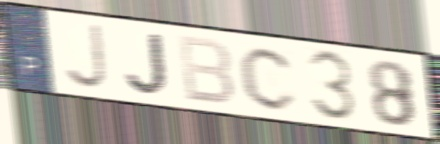3: (304, 47, 358, 124)
8: (366, 58, 419, 129)
B: (175, 33, 237, 108)
C: (238, 44, 300, 113)
J: (61, 21, 109, 90), (123, 30, 170, 97)
